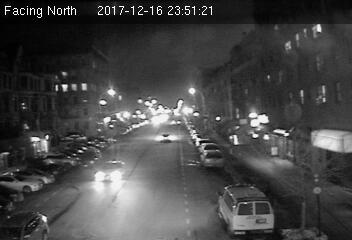car: (94, 158, 127, 185), (201, 149, 224, 169), (158, 132, 176, 145)
police: (218, 182, 276, 234)
